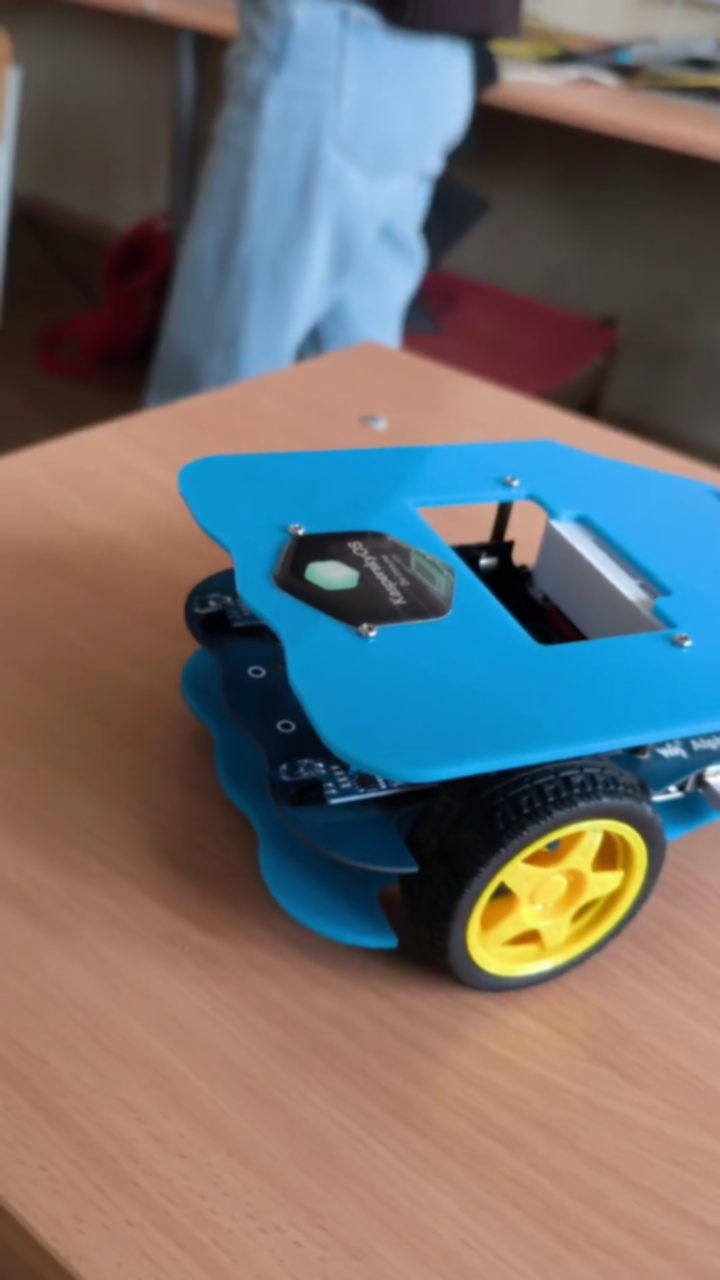robot: (177, 438, 720, 991)
